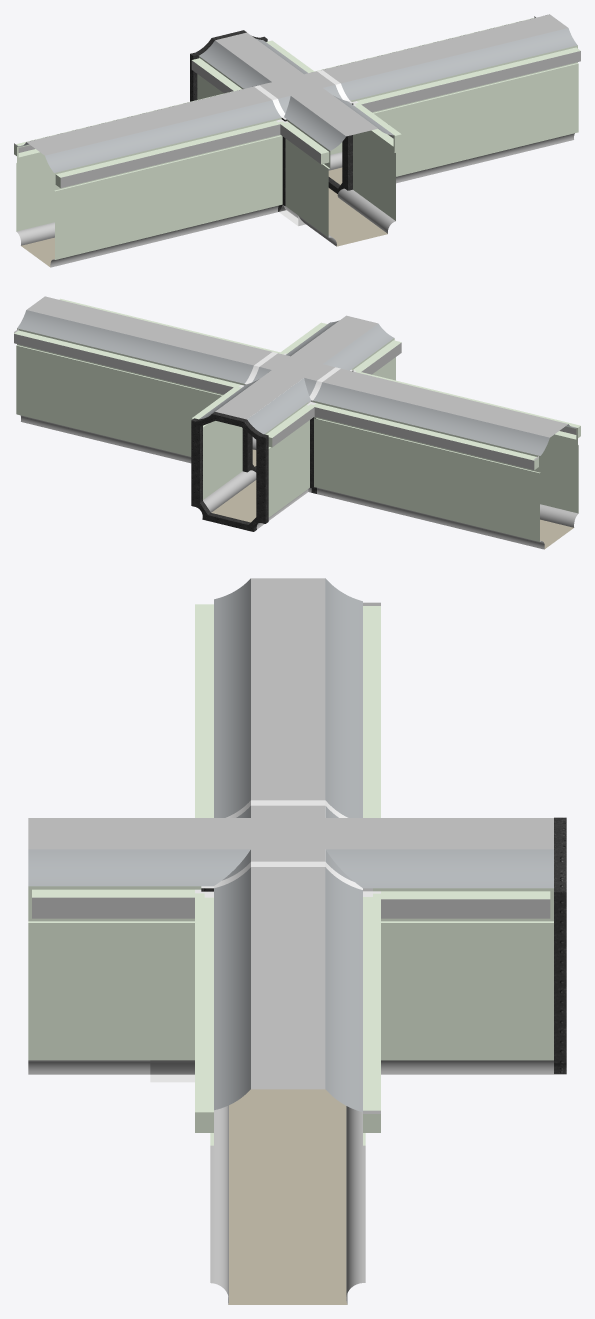
Rendered from 4 pasillos.fbx.
The picture shows the model from 3 angles, top to bottom: view 1: azimuth 30°, elevation 25°; view 2: azimuth 150°, elevation 25°; view 3: azimuth 270°, elevation 25°; orthographic projection. The views are drawn at different scales.
Parts seen in each view (by area): view 1: Model; view 2: Model; view 3: Model.
Boxes of the visible parts, x1,y1,x2,y2 form: Model: (14,14,580,267); Model: (14,296,580,549); Model: (28,578,566,1304).
Size of the model in its own units: 13.38 by 2.63 by 5.95.
